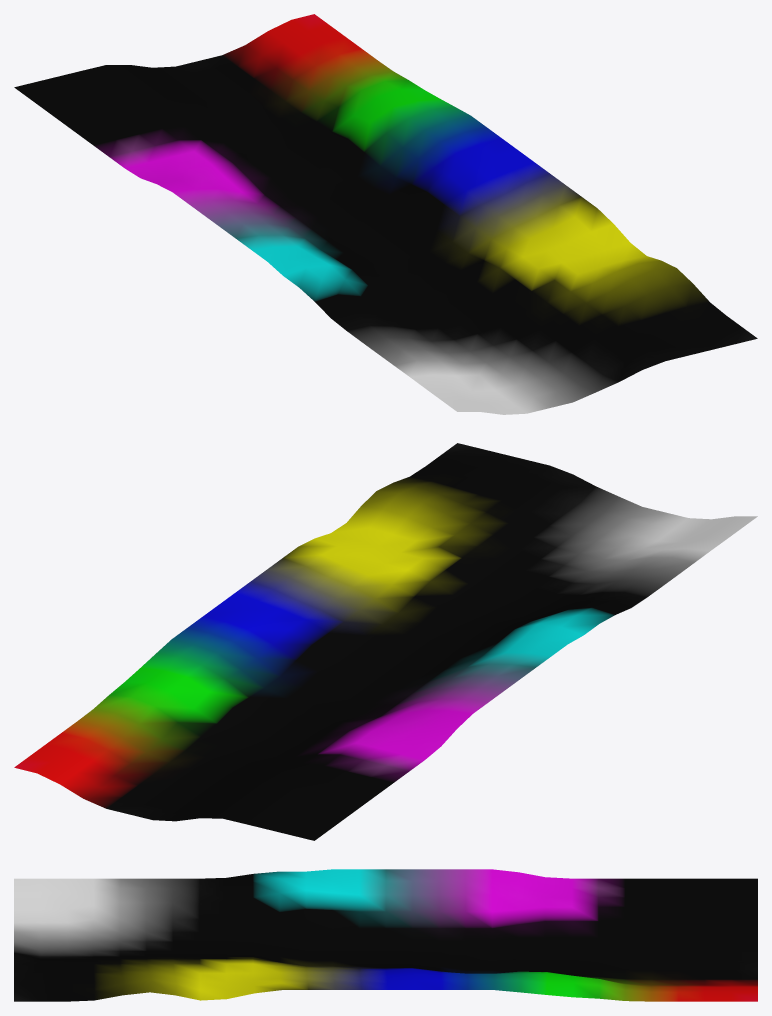
Rendered from Demo_VertColor_Mesh.fbx.
3 renders of one model, top to bottom at view 1: azimuth 30°, elevation 25°; view 2: azimuth 150°, elevation 25°; view 3: azimuth 270°, elevation 25°, orthographic. The views are drawn at different scales.
Parts seen in each view (by area): view 1: Cube; view 2: Cube; view 3: Cube.
Part boxes in pixels (x1=…): Cube: x1=14, y1=14, x2=757, y2=414; Cube: x1=14, y1=443, x2=757, y2=840; Cube: x1=14, y1=869, x2=757, y2=1001.
Bounding box in the file's own units: 884 × 95.74 × 2259.
